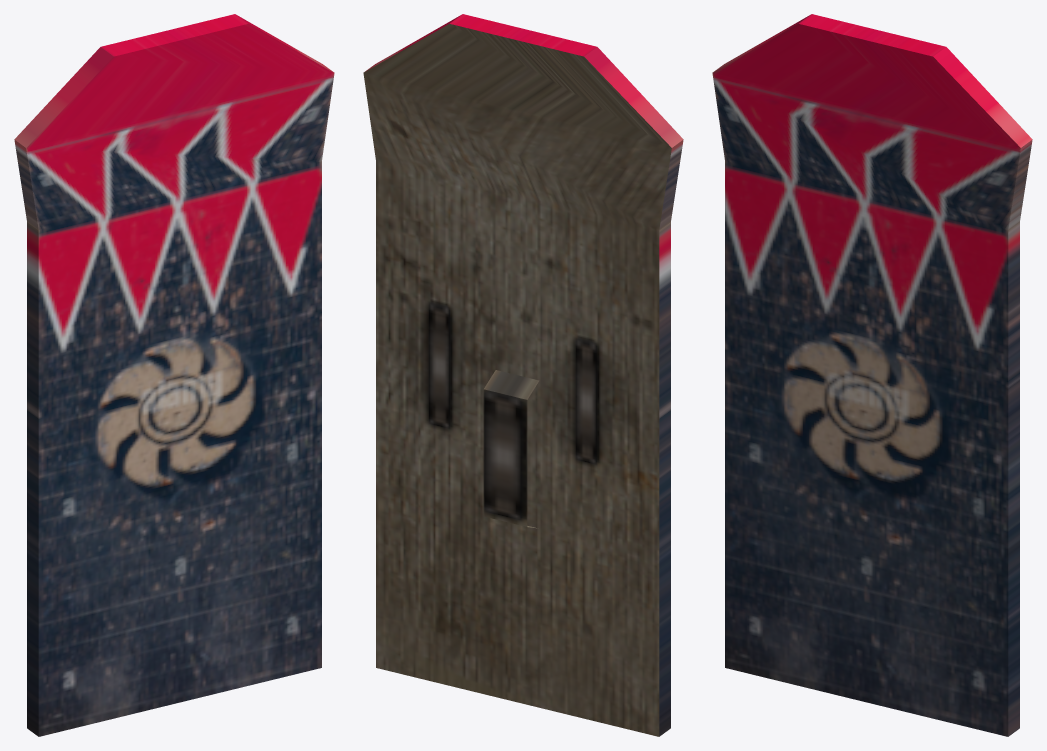
Rendered from yayoi_s_tedate_d.dae.
3 views of the same model, side by side, from view 1: azimuth 30°, elevation 25°; view 2: azimuth 150°, elevation 25°; view 3: azimuth 330°, elevation 25° (orthographic).
Visible parts, largest first — view 1: shield_tedate_d; view 2: shield_tedate_d; view 3: shield_tedate_d.
Boxes of the visible parts, x1,y1,x2,y2 form: shield_tedate_d: [14, 14, 334, 736]; shield_tedate_d: [363, 14, 683, 736]; shield_tedate_d: [712, 14, 1032, 736].
Size of the model in its own units: 1.13 by 0.157 by 2.33.
